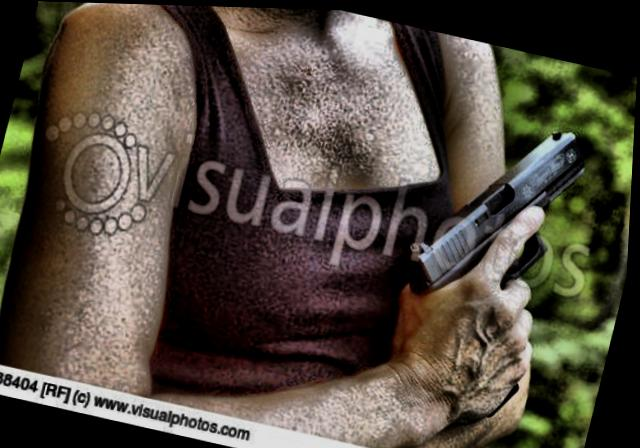pistol: (394, 93, 605, 326)
